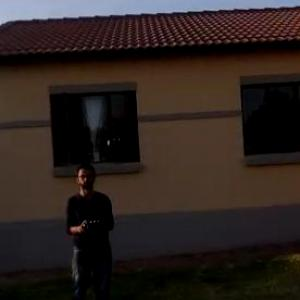follow: (61, 155, 122, 299)
